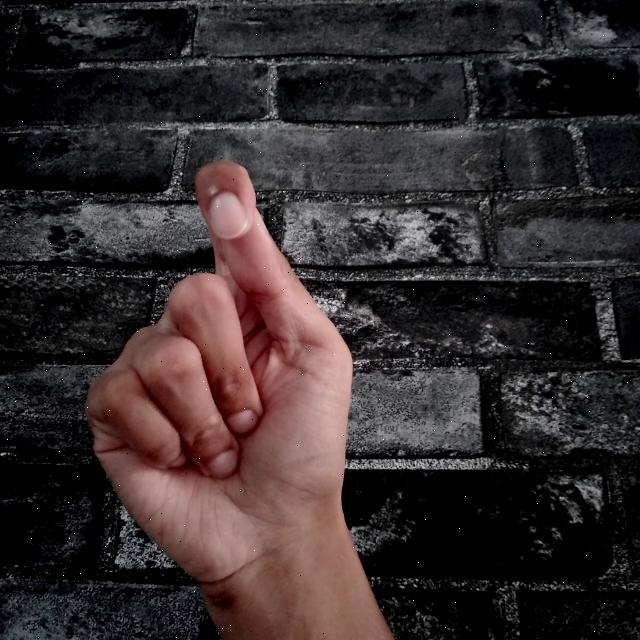T: (81, 157, 396, 640)
